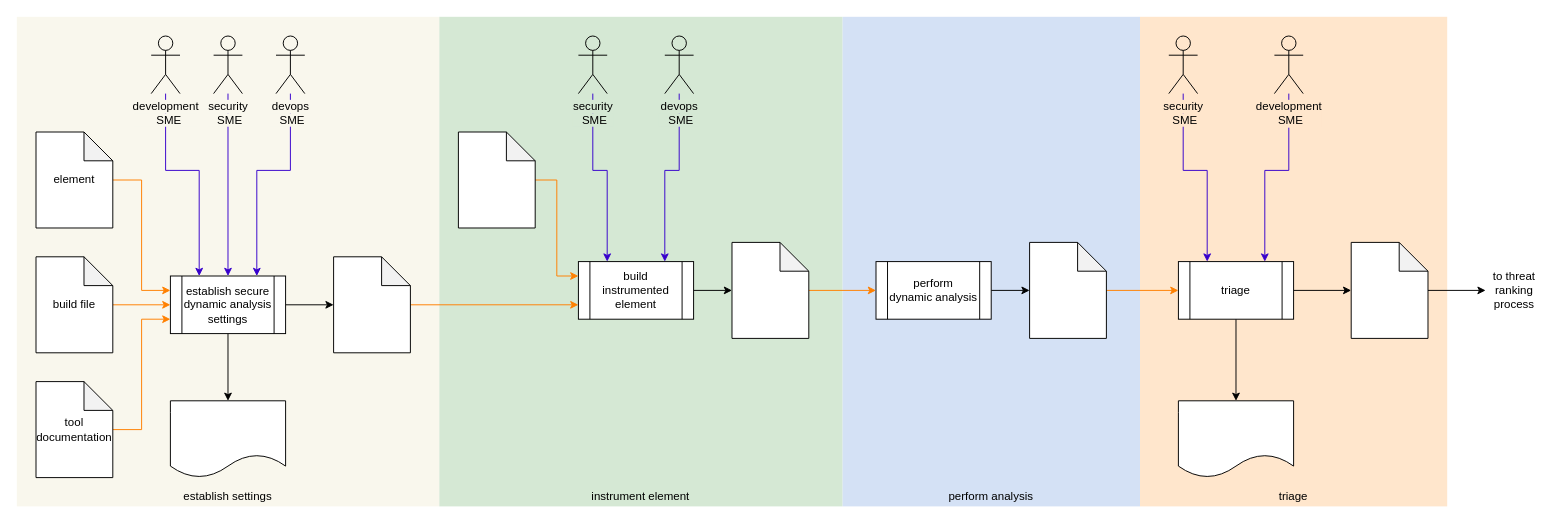
This 1559x522 diagram has some shape labels left out. Each missing label, with the centre of its shape:
"dynamic analysis output" goes at (1067,289).
"dynamic analysis report" goes at (1235,439).
"element test" goes at (496,179).
"identified issues" goes at (1389,289).
"instrumented element test" goes at (770,289).
"security options qualification report" goes at (227,439).
"updated build file" goes at (371,304).
